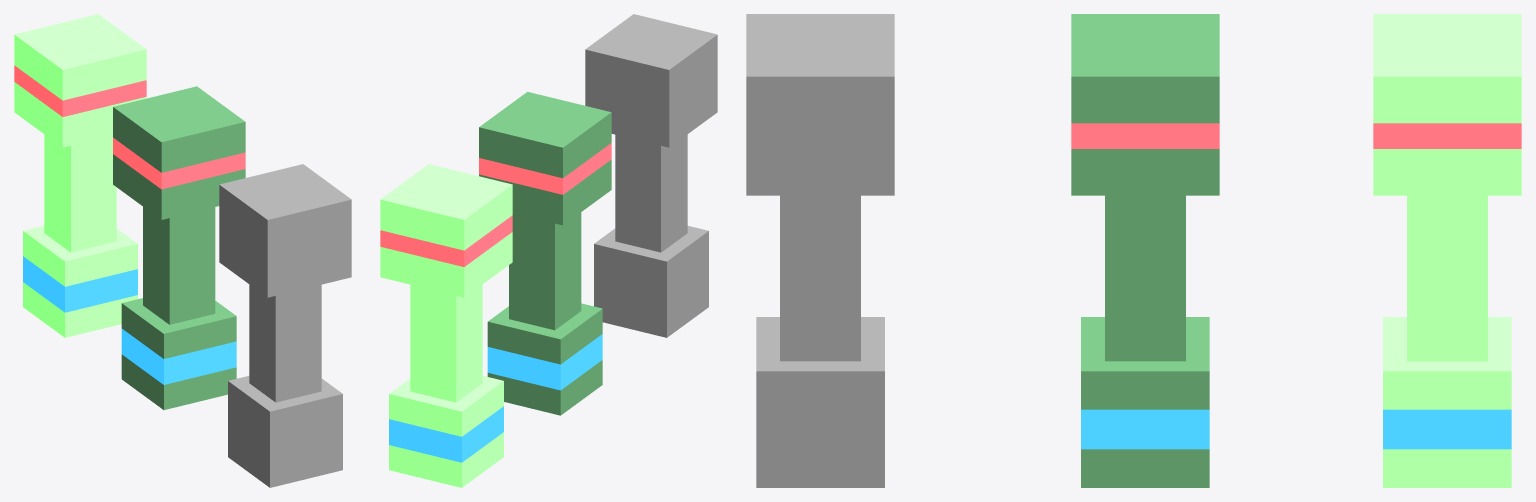
Rendered from Modelo separado.gltf.
3 renders of one model, left to right at view 1: azimuth 30°, elevation 25°; view 2: azimuth 150°, elevation 25°; view 3: azimuth 270°, elevation 25°, orthographic. The views are drawn at different scales.
Visible parts, largest first — view 1: Cube.002, Cube, Cube.001; view 2: Cube.001, Cube.002, Cube; view 3: Cube, Cube.001, Cube.002.
Part boxes in pixels (bbox=[...]): Cube.002: bbox=[219, 164, 351, 487]; Cube: bbox=[113, 86, 245, 409]; Cube.001: bbox=[14, 14, 146, 337]; Cube.001: bbox=[380, 164, 512, 487]; Cube.002: bbox=[585, 14, 717, 337]; Cube: bbox=[479, 91, 611, 415]; Cube: bbox=[1071, 14, 1219, 487]; Cube.001: bbox=[1373, 14, 1521, 487]; Cube.002: bbox=[746, 14, 894, 487].
Bounding box in the file's own units: 0.1871 × 0.5779 × 0.9774.
